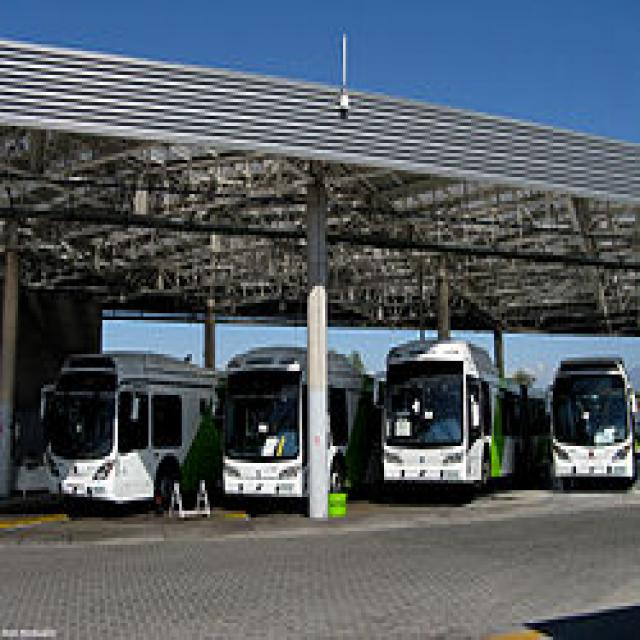AB: (374, 334, 550, 514)
